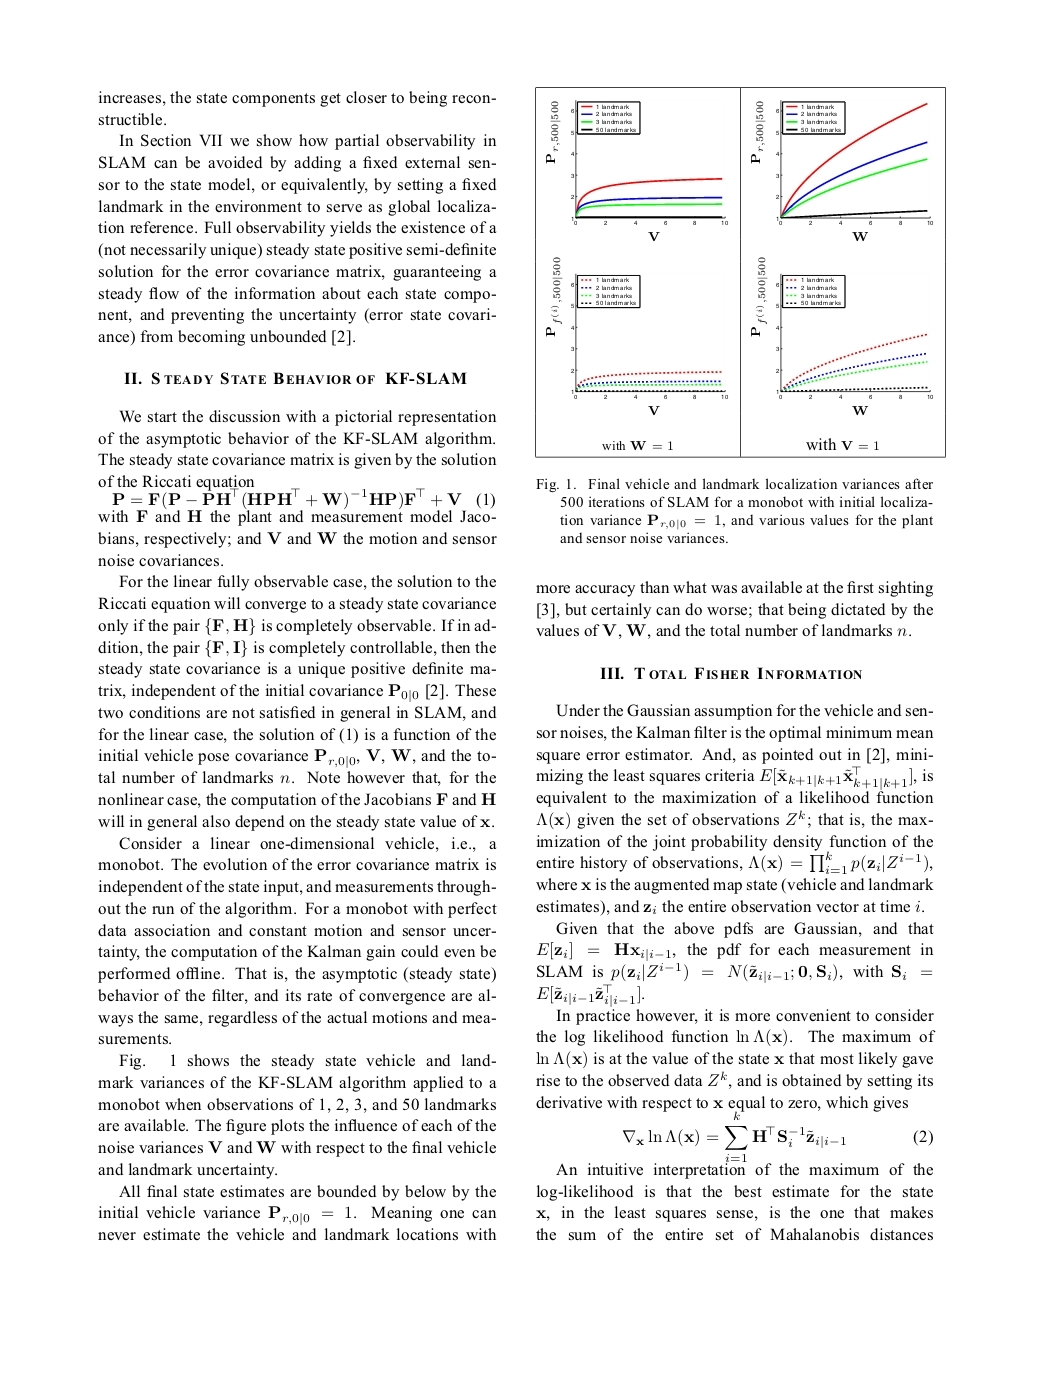figure: (546, 257, 727, 413), (752, 257, 932, 413), (546, 100, 727, 240), (751, 100, 932, 240)
formula: (623, 1112, 932, 1161), (111, 485, 493, 507), (536, 984, 643, 1006)
